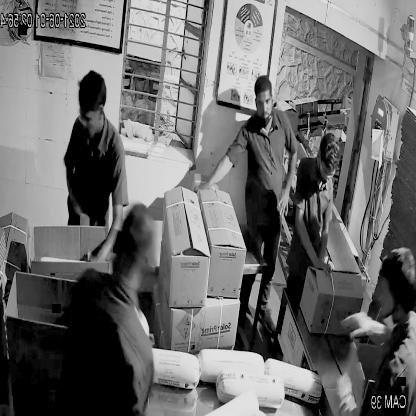goggles: (317, 157, 338, 185)
